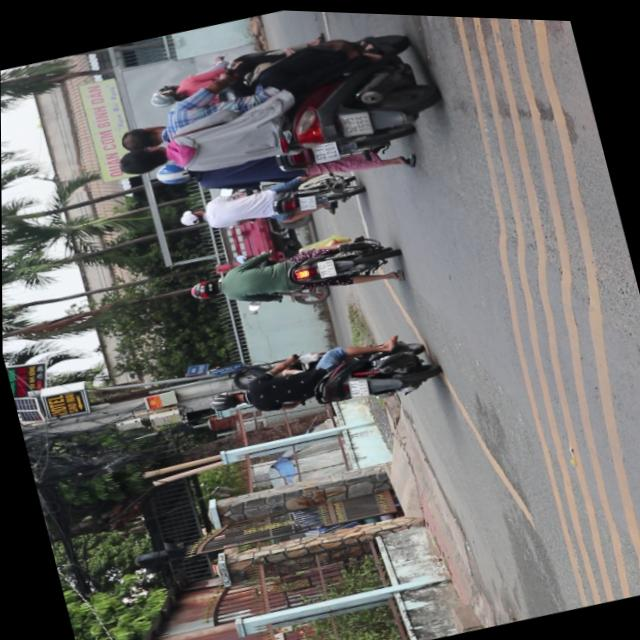helmet: (150, 157, 193, 189), (205, 386, 245, 415), (186, 278, 220, 304), (175, 206, 204, 229)
licenseplate: (96, 4, 452, 220), (125, 106, 418, 229), (198, 317, 441, 441), (179, 215, 403, 330), (171, 156, 365, 250)
motorcyclist: (111, 120, 170, 175), (114, 139, 172, 181), (114, 120, 164, 156)
nohelmet: (337, 106, 372, 137), (310, 137, 339, 162), (345, 374, 369, 397), (315, 256, 335, 277), (295, 192, 316, 210)
